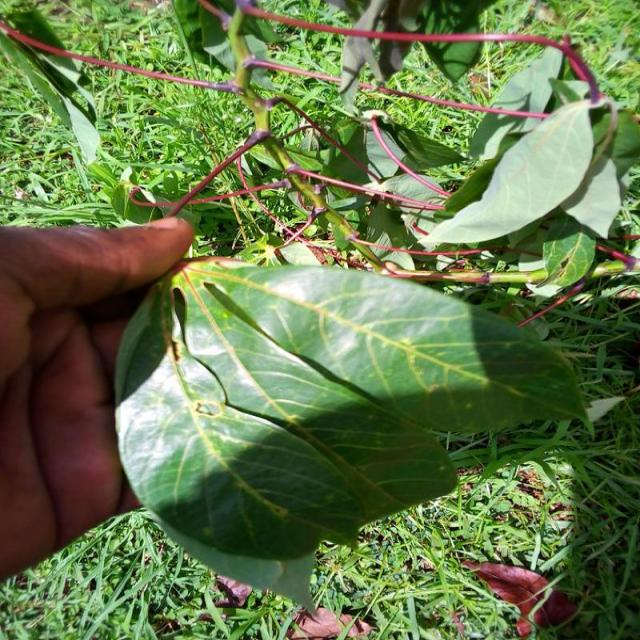cassava leaf: (113, 249, 594, 610)
